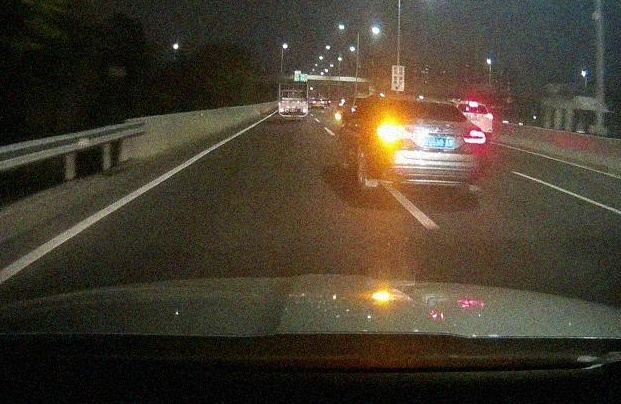L_light: (377, 126, 407, 138)
R_light: (462, 129, 485, 144)
T_light: (415, 100, 433, 105)
night-left: (371, 94, 487, 201)
